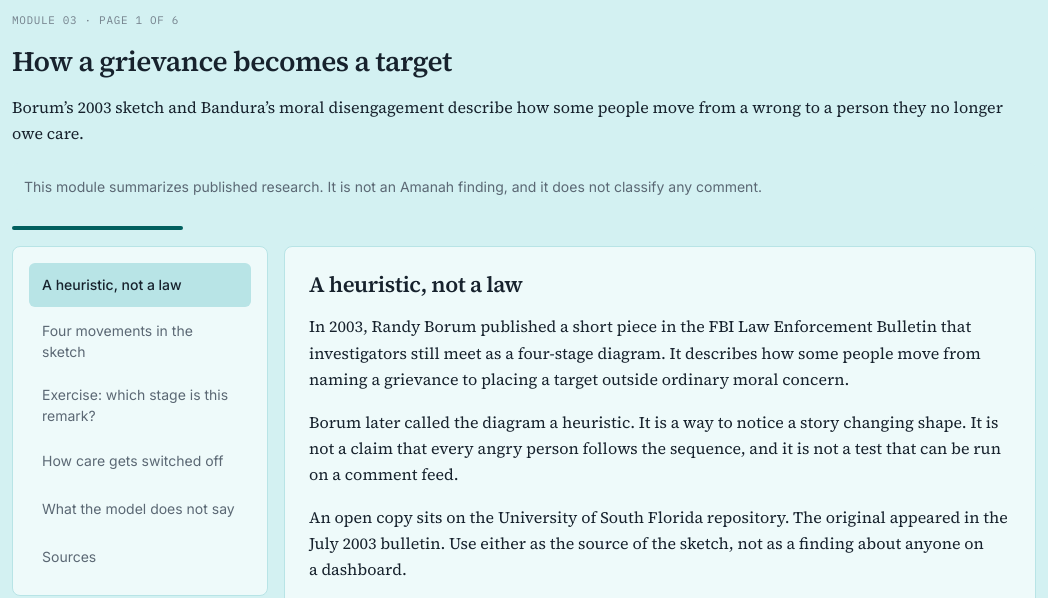
Test: LessonReaderPage › reuses the mindset figure in module 03
Click the button "Four movements in the sketch": click(140, 341) [29,311,251,371]
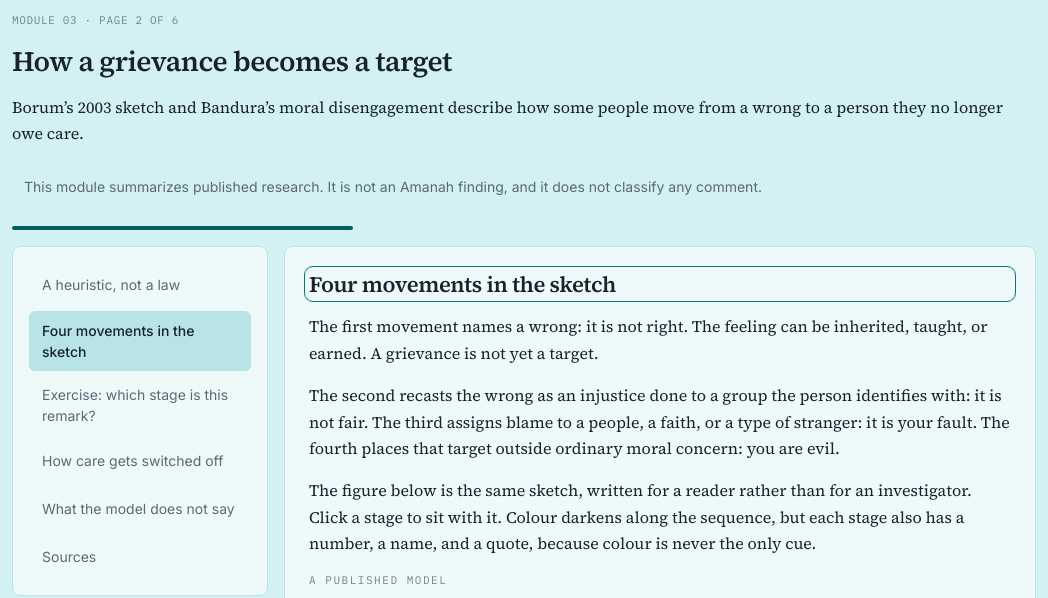
expect the text "A published model" is shown: met, box [309,574,447,588]
